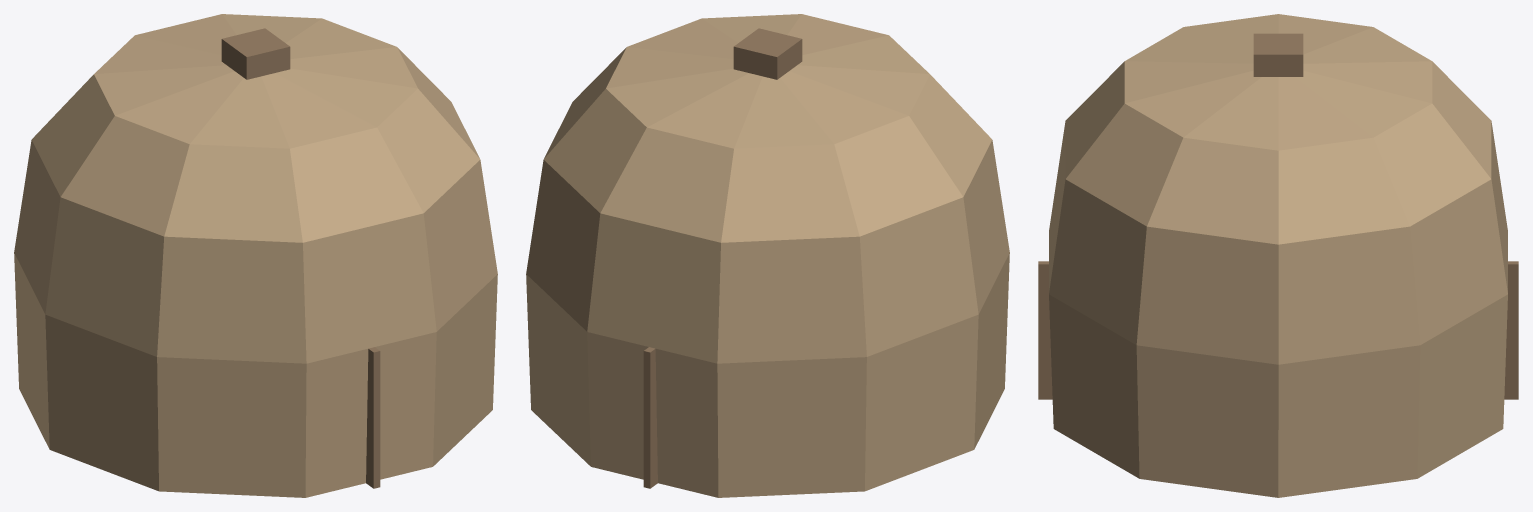
File: prop-hat-block-form.fbx
The picture shows the model from 3 angles, left to right: view 1: azimuth 30°, elevation 25°; view 2: azimuth 150°, elevation 25°; view 3: azimuth 270°, elevation 25°; orthographic projection.
Visible parts, largest first — view 1: prop-hat-block-form; view 2: prop-hat-block-form; view 3: prop-hat-block-form.
Part boxes in pixels (x1,y1,x2,y2): prop-hat-block-form: [14, 14, 497, 497]; prop-hat-block-form: [526, 14, 1009, 497]; prop-hat-block-form: [1038, 14, 1518, 497].
Size of the model in its own units: 19.4 by 15.7 by 19.3.
